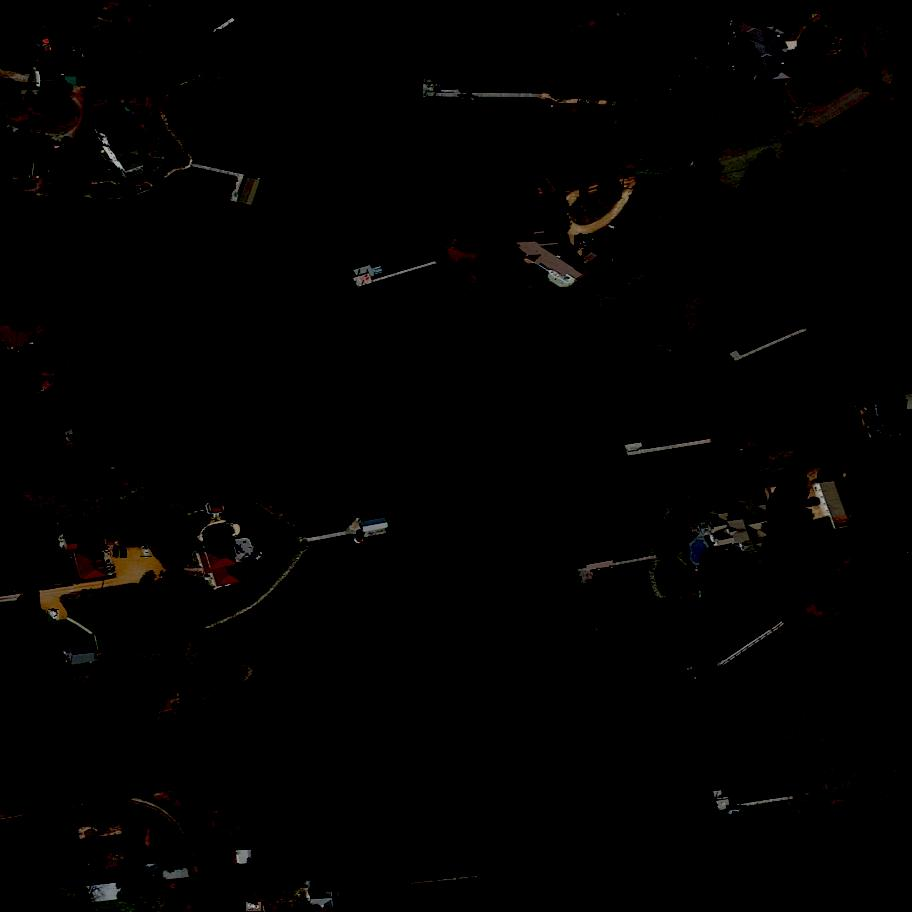ship: (628, 207, 648, 224), (726, 806, 748, 818), (459, 97, 478, 105)
small-vehicle: (118, 103, 138, 119), (574, 234, 592, 251), (253, 551, 267, 566), (140, 546, 152, 559), (48, 608, 59, 622), (606, 224, 621, 234), (246, 903, 262, 912), (599, 231, 612, 239), (119, 549, 128, 559), (114, 547, 120, 559)
